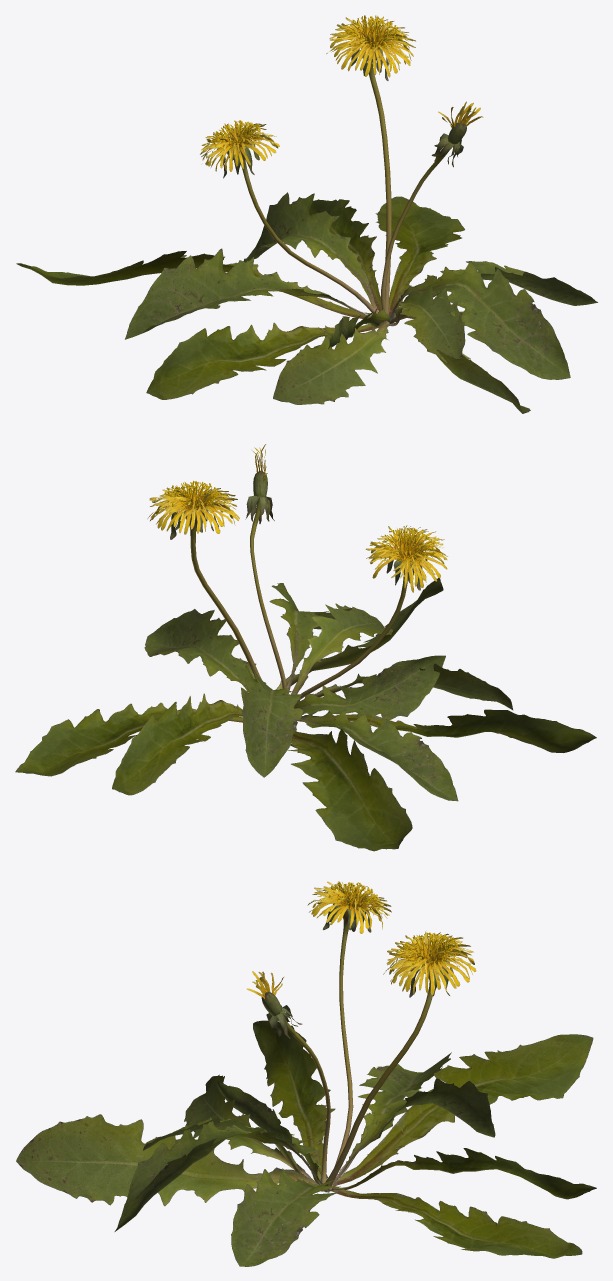
Rendered from dandelion_01_04.glb.
3 renders of one model, top to bottom at view 1: azimuth 30°, elevation 25°; view 2: azimuth 150°, elevation 25°; view 3: azimuth 270°, elevation 25°, orthographic. The views are drawn at different scales.
Parts seen in each view (by area): view 1: dandelion_01; view 2: dandelion_01; view 3: dandelion_01.
Part boxes in pixels (x1,y1,x2,y2): dandelion_01: [16, 15, 597, 413]; dandelion_01: [15, 444, 596, 851]; dandelion_01: [16, 881, 596, 1266].
Bounding box in the file's own units: 0.2018 × 0.1139 × 0.218.
1 material, 1 textured.
